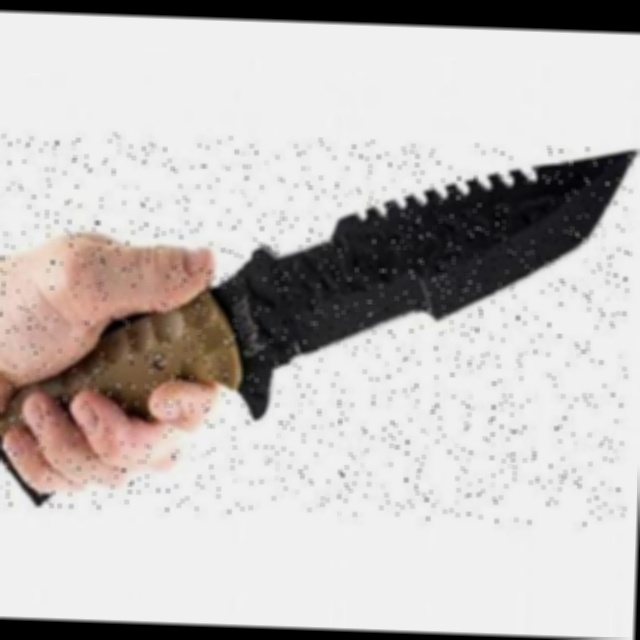Sharp-Object: (0, 129, 638, 527)
